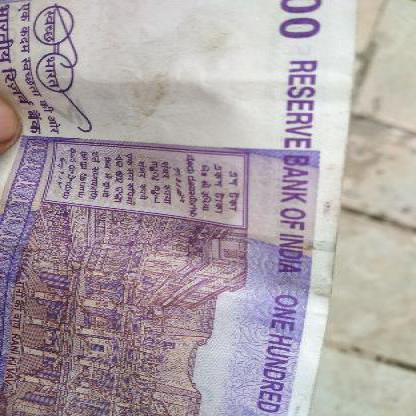New100Back: (0, 2, 328, 416)
